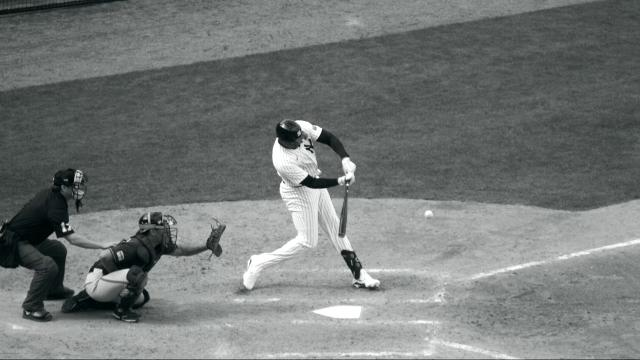baseball bat: (338, 180, 350, 239)
sports ball: (425, 210, 433, 218)
